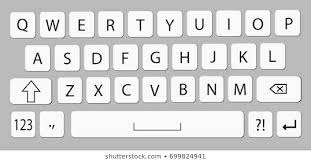keyboard: (4, 5, 311, 145)
